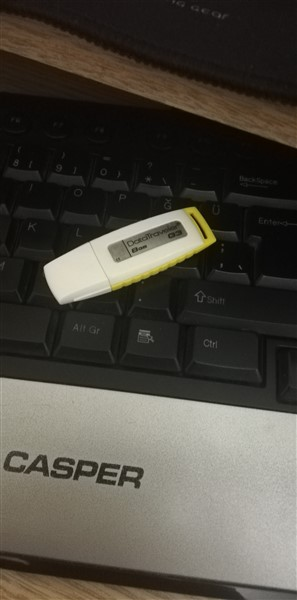flash disk: (44, 203, 218, 315)
klavye: (1, 84, 297, 597)
